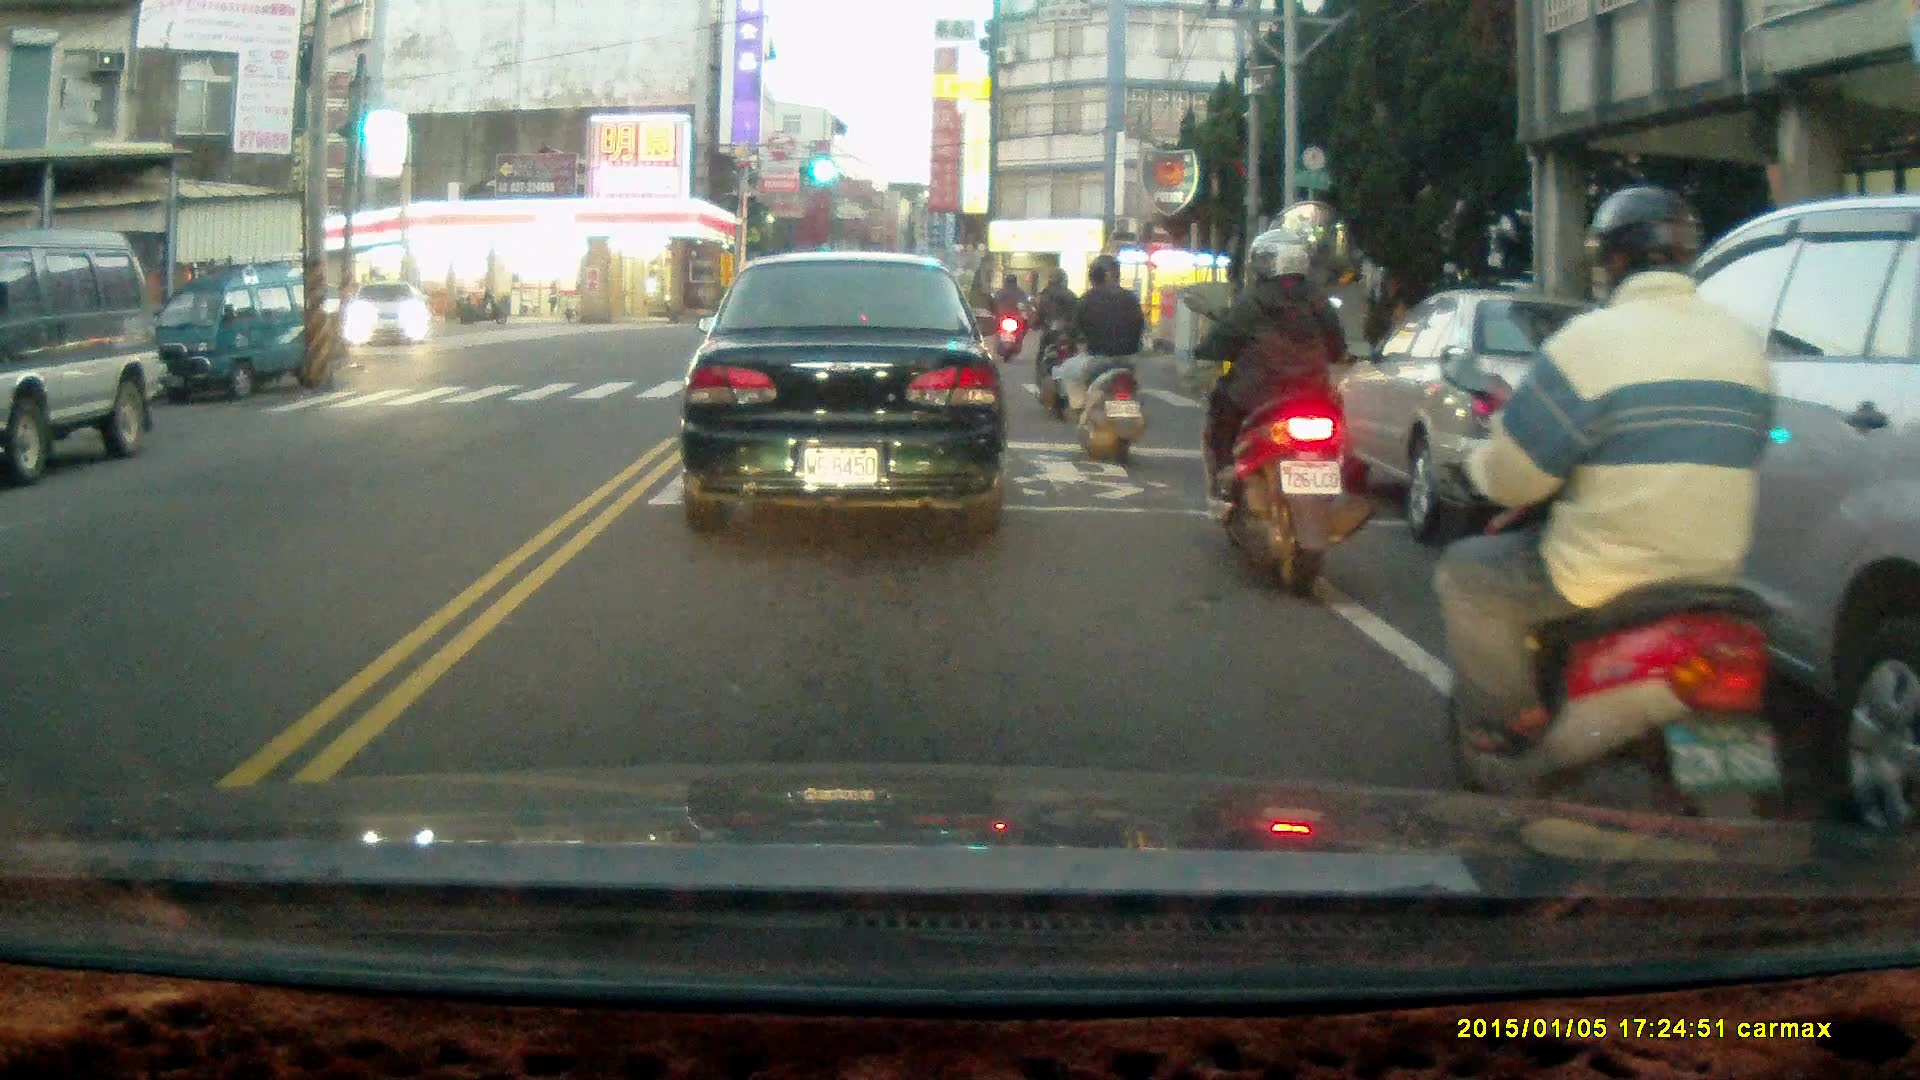rider: (1430, 185, 1800, 890), (1190, 225, 1372, 601), (1047, 252, 1144, 468), (1017, 269, 1088, 422), (990, 275, 1032, 363)
vehicle: (1532, 195, 1920, 845), (1325, 291, 1712, 546), (681, 251, 1016, 539), (1, 234, 153, 475), (147, 263, 338, 406), (347, 284, 433, 353)
